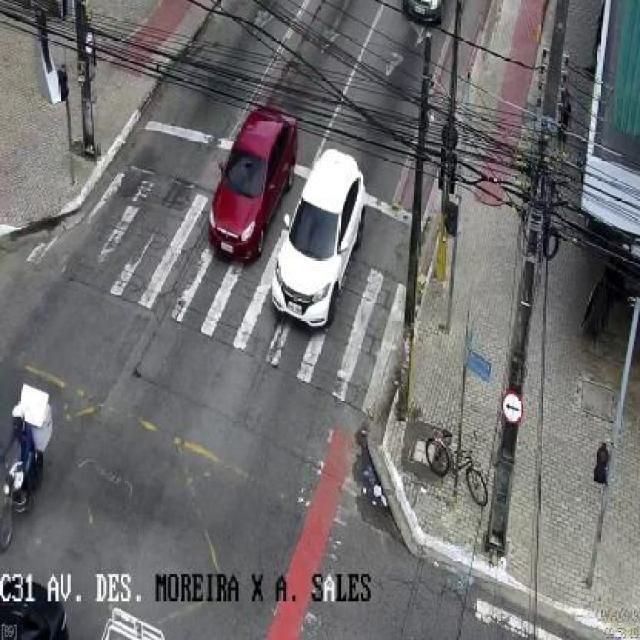Car: (250, 139, 370, 343), (187, 98, 300, 262)
Cycle: (0, 338, 81, 546)
